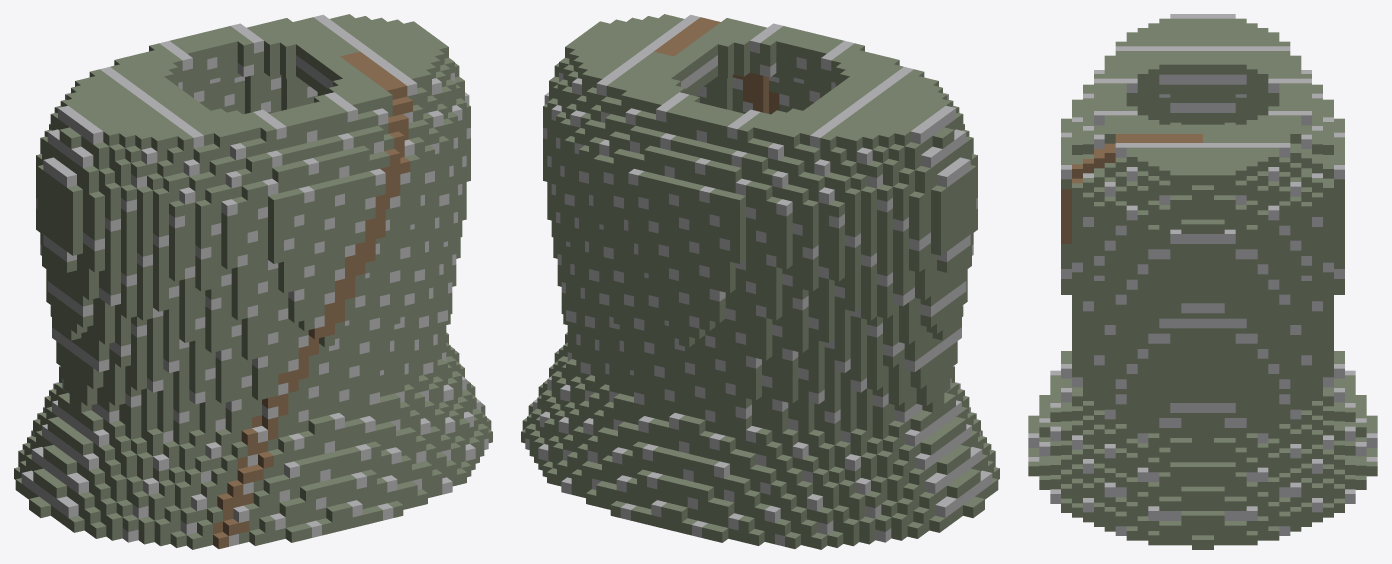
File: cloth_common_chest.glb
The picture shows the model from 3 angles, left to right: view 1: azimuth 30°, elevation 25°; view 2: azimuth 150°, elevation 25°; view 3: azimuth 270°, elevation 25°; orthographic projection. The views are drawn at different scales.
Parts seen in each view (by area): view 1: cloth_common_chest; view 2: cloth_common_chest; view 3: cloth_common_chest.
Boxes of the visible parts, box(x1,y1,x2,y2) form: cloth_common_chest: box(14, 14, 492, 549); cloth_common_chest: box(521, 14, 999, 549); cloth_common_chest: box(1028, 14, 1377, 549).
Size of the model in its own units: 0.516 by 0.432 by 0.384.
